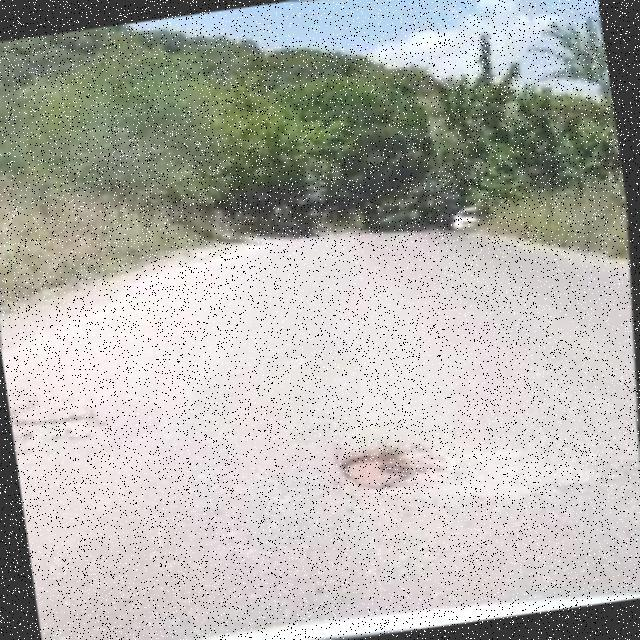Pothole: (342, 447, 415, 490)
